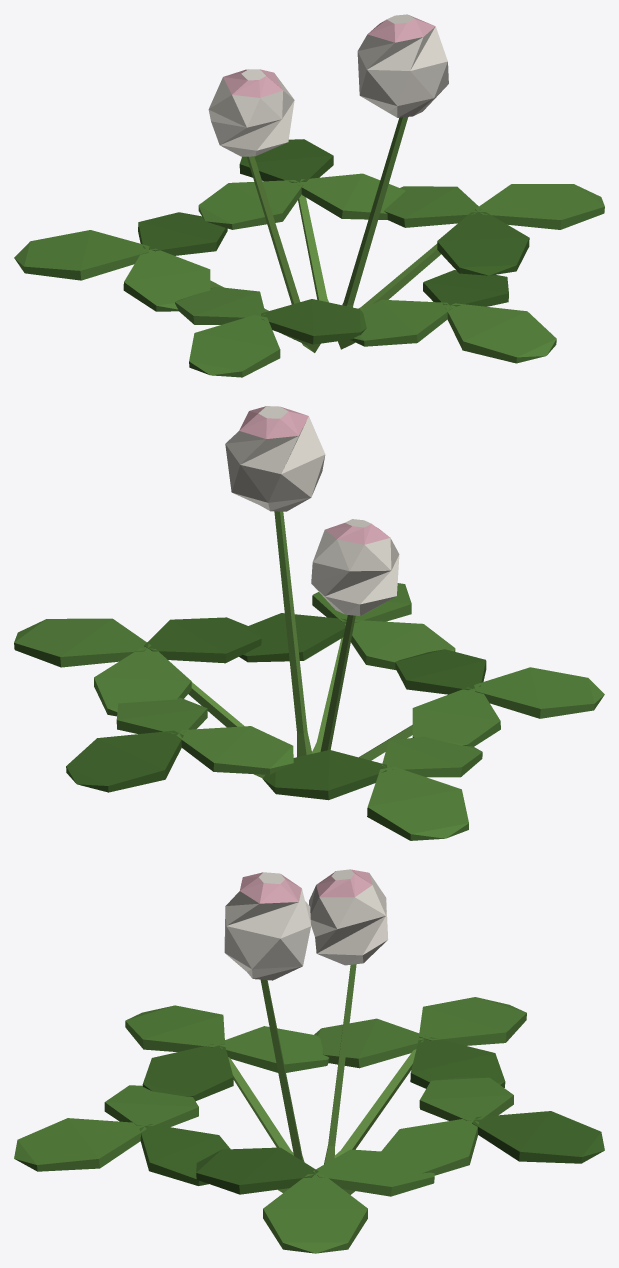
The model's file is clover.gltf.
3 views of the same model, one above another, from view 1: azimuth 30°, elevation 25°; view 2: azimuth 150°, elevation 25°; view 3: azimuth 270°, elevation 25° (orthographic). The views are drawn at different scales.
Parts seen in each view (by area): view 1: clover; view 2: clover; view 3: clover.
Boxes of the visible parts, x1=… form: clover: x1=14, y1=14, x2=604, y2=377; clover: x1=14, y1=406, x2=604, y2=840; clover: x1=14, y1=869, x2=604, y2=1253.
Bounding box in the file's own units: 0.2378 × 0.1469 × 0.2291.
